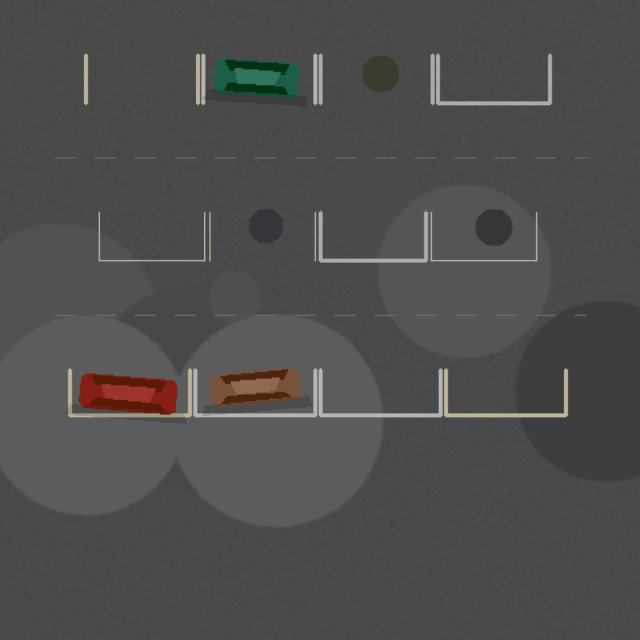space-empty: (320, 369, 440, 415), (445, 369, 565, 415), (85, 55, 197, 103), (320, 55, 432, 103), (437, 55, 549, 103), (209, 212, 315, 260), (99, 212, 204, 260), (320, 212, 425, 260), (431, 212, 536, 260)
space-occupied: (69, 369, 189, 415), (195, 369, 315, 415), (203, 55, 315, 103)
